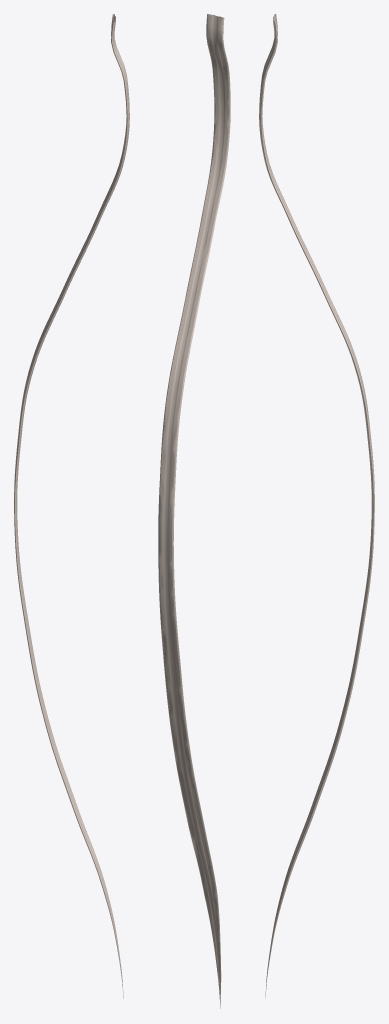
The model's file is nervoso-lateral-intermediate-substance.glb.
The picture shows the model from 3 angles, left to right: view 1: azimuth 90°, elevation 25°; view 2: azimuth 150°, elevation 25°; view 3: azimuth 270°, elevation 25°; orthographic projection.
Parts seen in each view (by area): view 1: Lateral intermediate substance; view 2: Lateral intermediate substance; view 3: Lateral intermediate substance.
Boxes of the visible parts, <box> form: Lateral intermediate substance: <box>14,14,129,998</box>; Lateral intermediate substance: <box>158,14,230,1008</box>; Lateral intermediate substance: <box>259,14,374,998</box>.
Bounding box in the file's own units: 0.00873 × 0.4897 × 0.0518.
